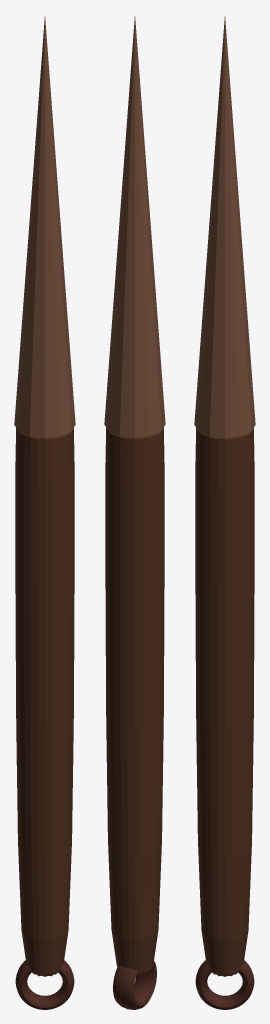
The model's file is Wand 21.glb.
The picture shows the model from 3 angles, left to right: view 1: azimuth 90°, elevation 25°; view 2: azimuth 150°, elevation 25°; view 3: azimuth 270°, elevation 25°; orthographic projection.
Parts seen in each view (by area): view 1: GeneratedWand; view 2: GeneratedWand; view 3: GeneratedWand.
Part boxes in pixels (x1,y1,x2,y2): GeneratedWand: [14, 16, 75, 1009]; GeneratedWand: [104, 16, 165, 1009]; GeneratedWand: [194, 16, 255, 1009].
Bounding box in the file's own units: 0.0282 × 0.5045 × 0.0282.
